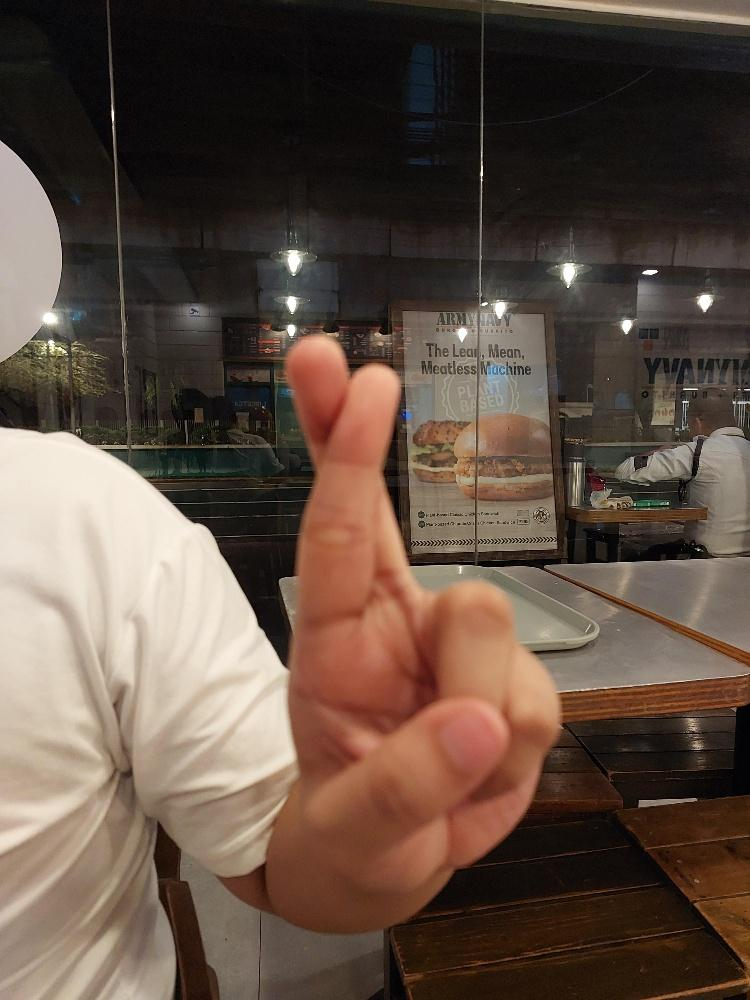r: (280, 331, 564, 893)
